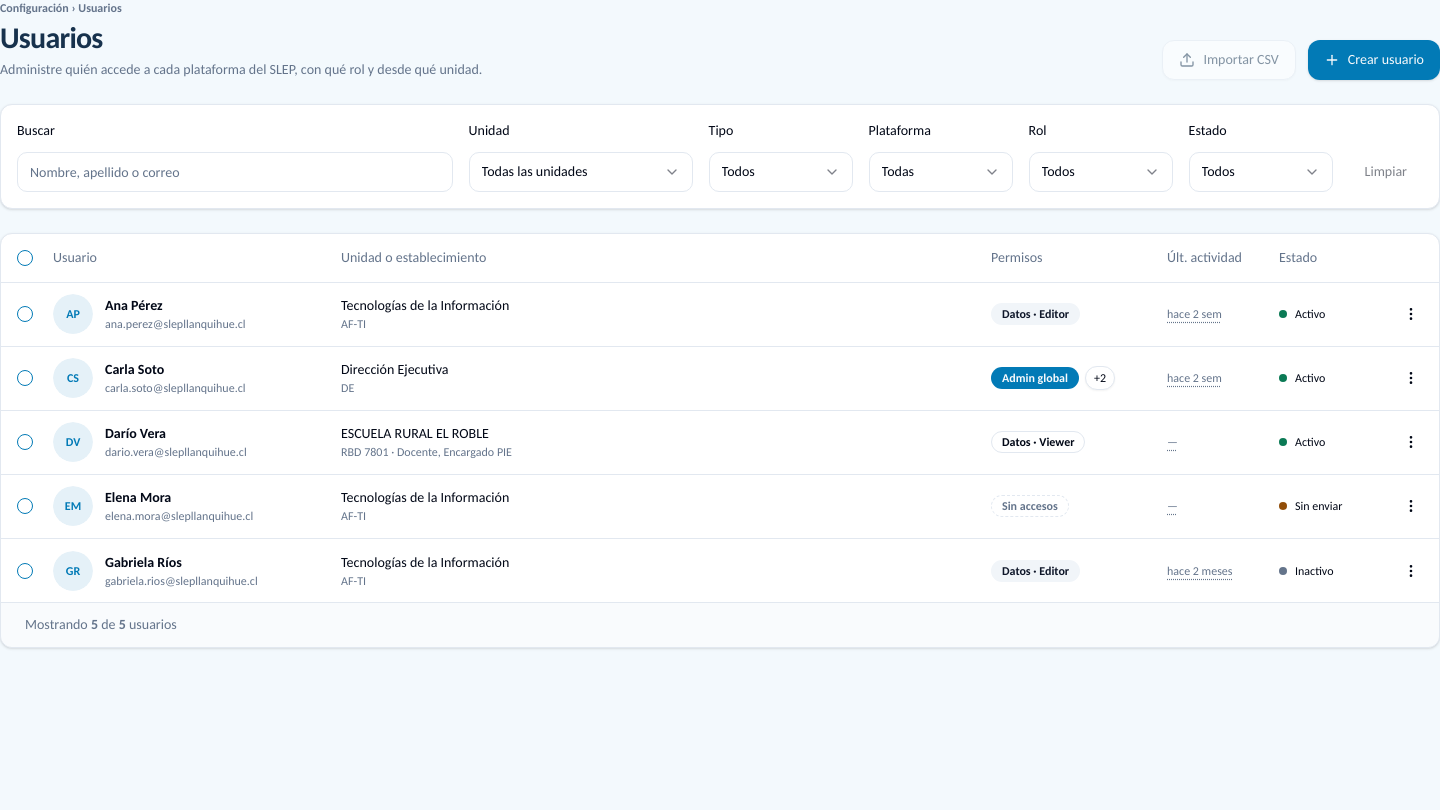
Test: FE10: acciones masivas › FE10-F: una falla (último admin global) se informa por nombre y no frena a los demás
expect the text "Ana Pérez" is shown: met, box [105,297,163,314]
Click the checkbox named "Seleccionar a Ana Pérez".
click(25, 314)  # box [17,306,33,322]
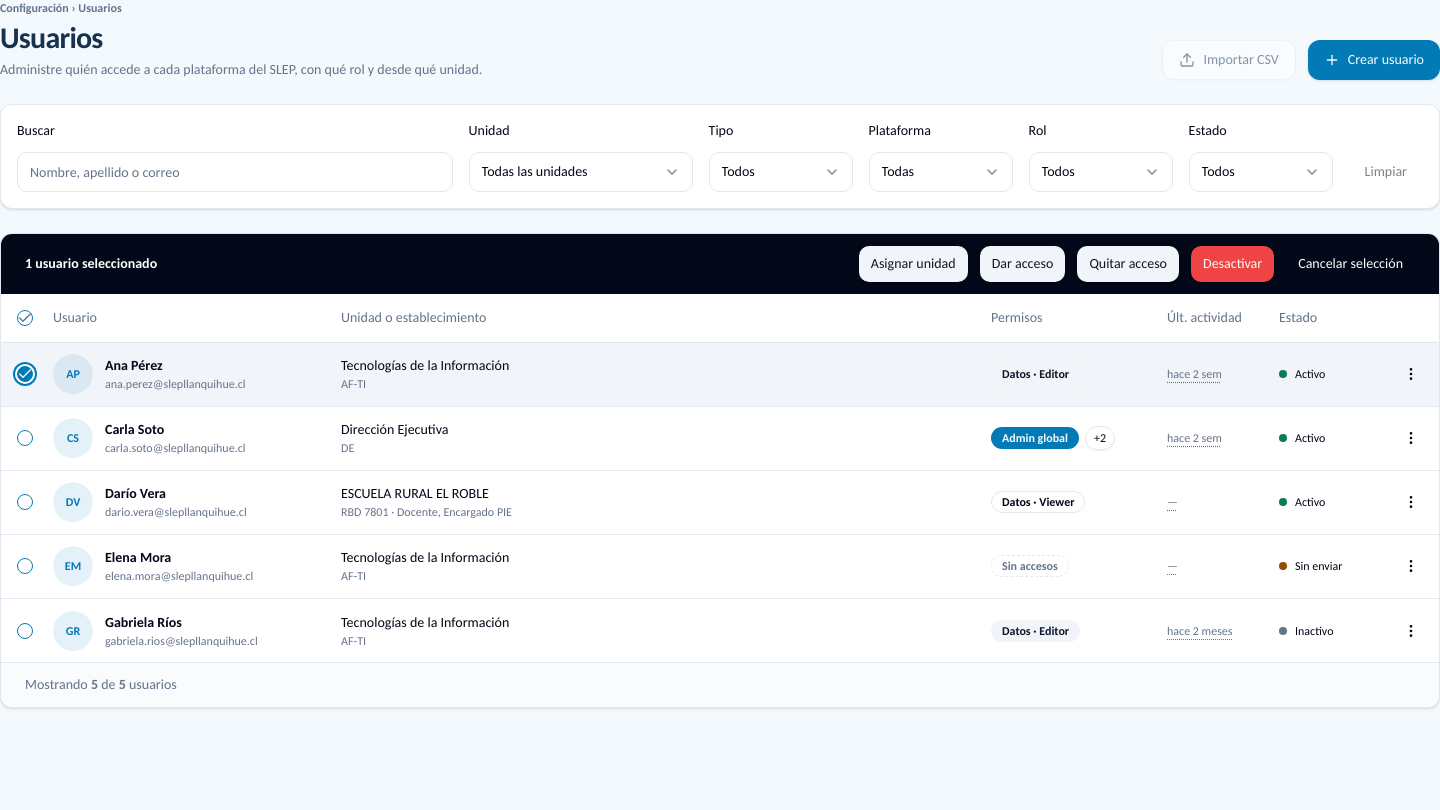
Click the checkbox named "Seleccionar a Carla Soto".
click(25, 438)  # box [17,430,33,446]
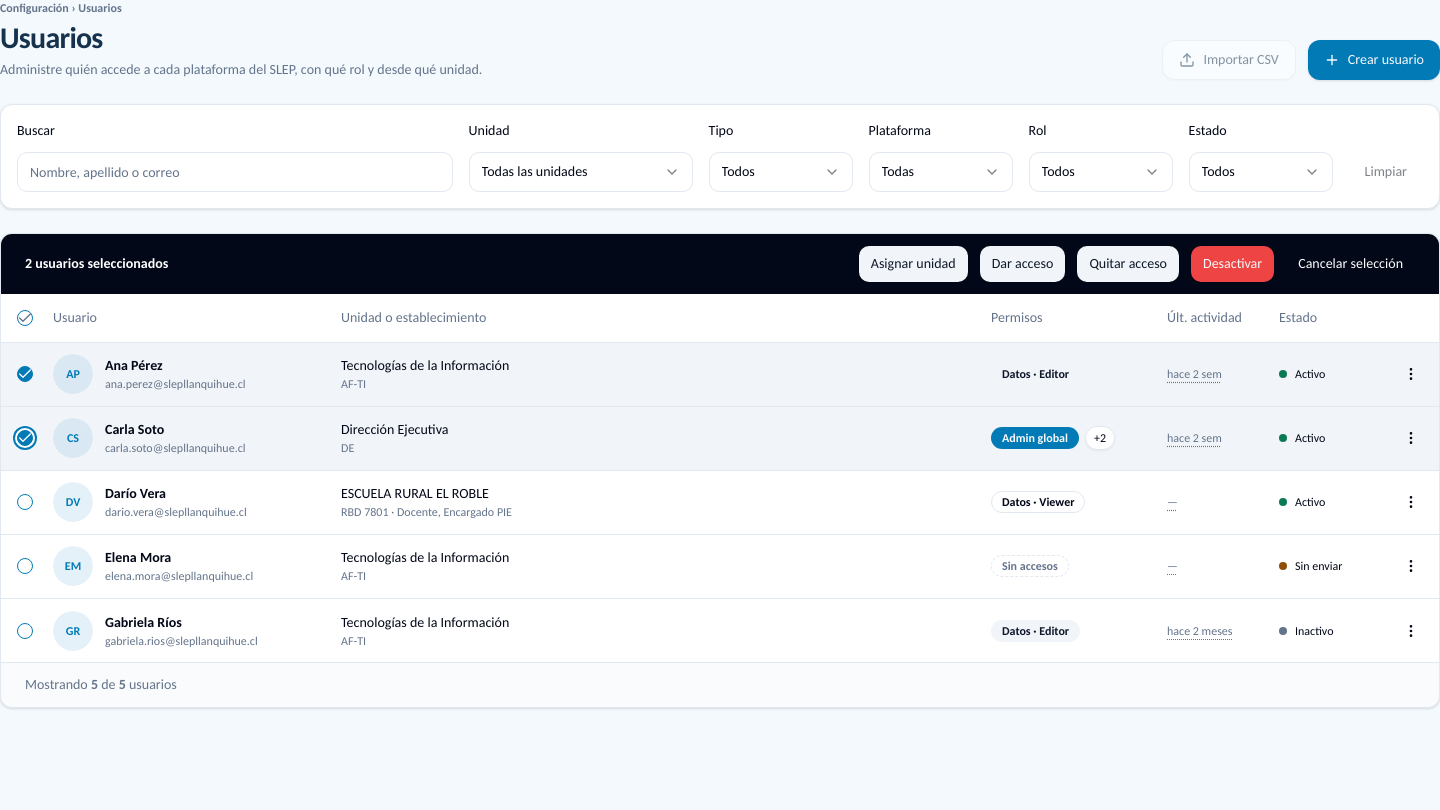
Click the checkbox named "Seleccionar a Darío Vera".
click(25, 502)  # box [17,494,33,510]
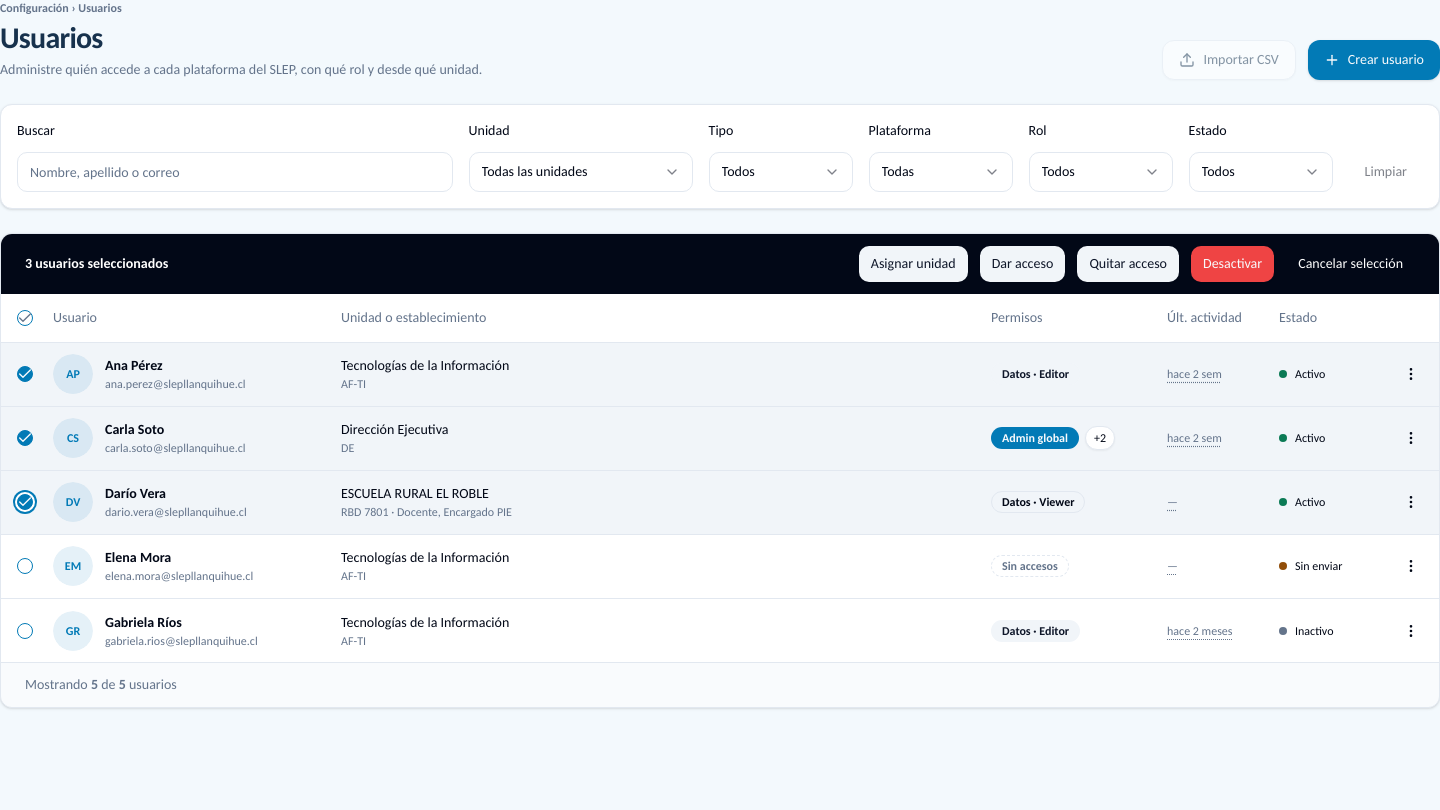
Click the button "Desactivar".
click(1233, 264)  # box [1191,246,1274,282]
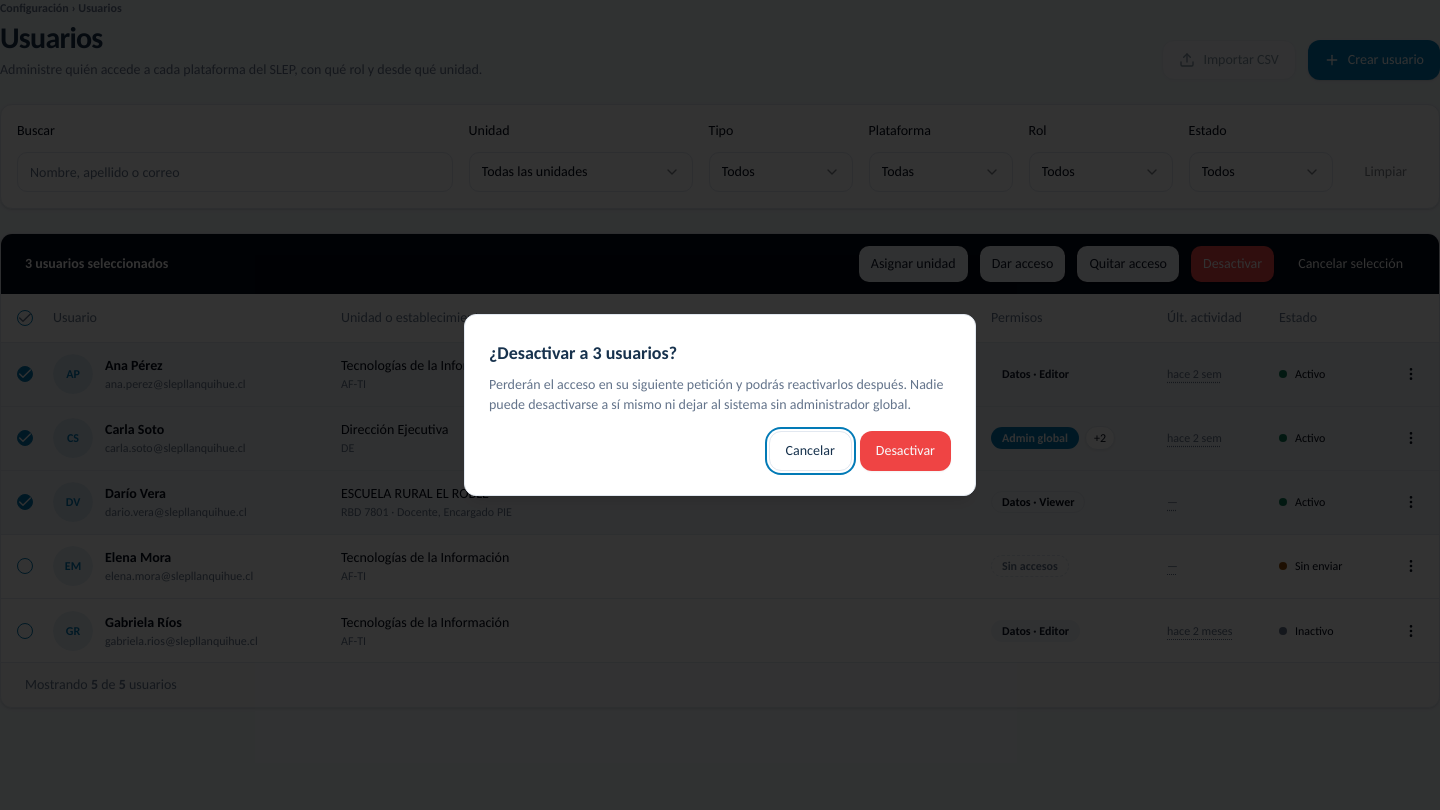
Click the button "Desactivar".
click(905, 451)  # box [860,431,951,471]
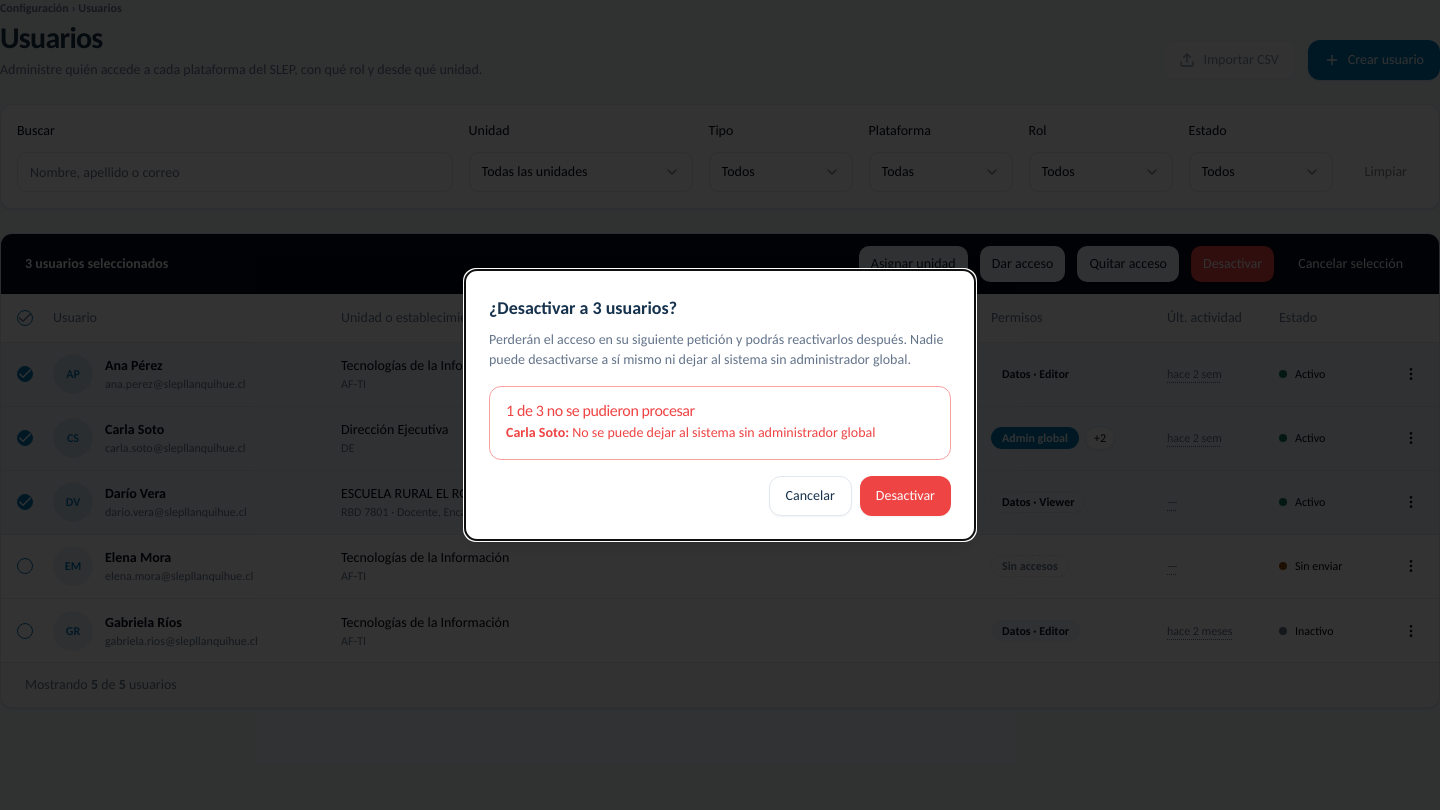
expect the heading "1 de 3 no se pudieron procesar" is shown: met, box [506,401,695,420]
expect the text "Carla Soto:" is shown: met, box [506,424,569,441]
expect the list item "No se puede dejar al sistema sin administrador global" is shown: met, box [572,424,876,441]
